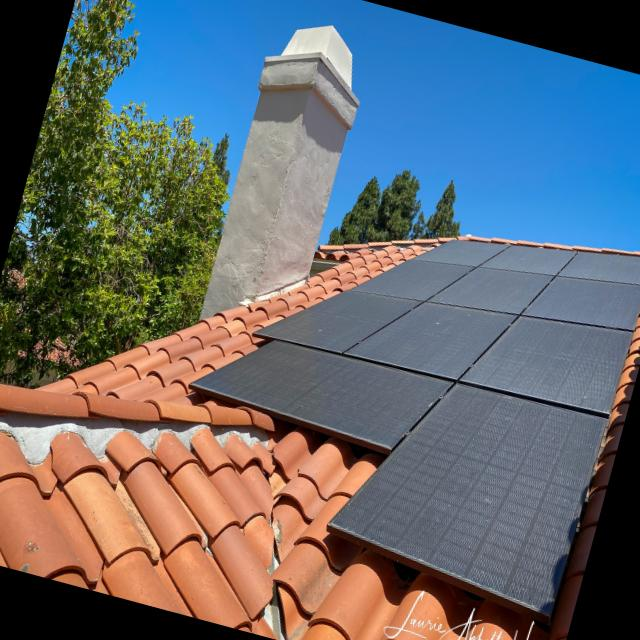faulty: (331, 384, 603, 613), (195, 338, 445, 449), (353, 240, 640, 325), (460, 317, 629, 412), (347, 301, 518, 381), (257, 289, 416, 349)
